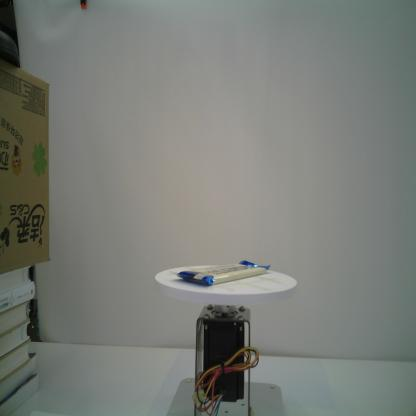Chocolate: (170, 259, 272, 289)
